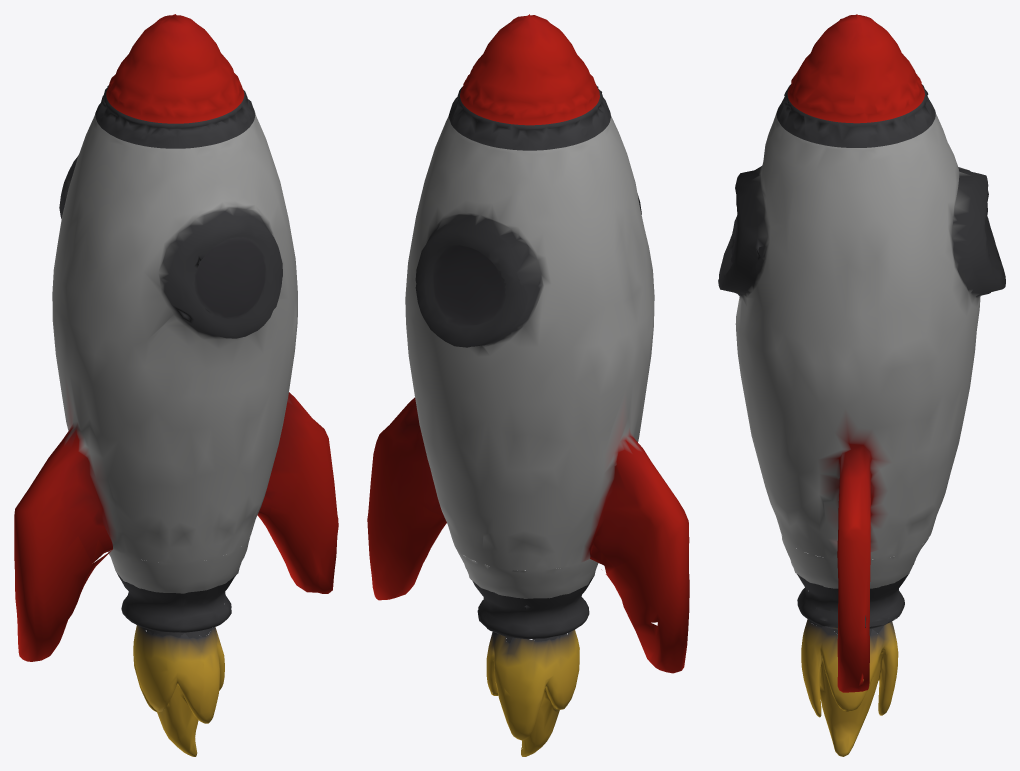
File: Cohete-AlasRojas.glb
The picture shows the model from 3 angles, left to right: view 1: azimuth 30°, elevation 25°; view 2: azimuth 150°, elevation 25°; view 3: azimuth 270°, elevation 25°; orthographic projection.
Parts seen in each view (by area): view 1: V2_Body, V2_Flame; view 2: V2_Body, V2_Flame; view 3: V2_Body, V2_Flame.
Boxes of the visible parts, x1,y1,x2,y2 form: V2_Body: (14,14,338,661); V2_Flame: (133,625,224,756); V2_Body: (367,14,689,673); V2_Flame: (479,621,579,756); V2_Body: (718,14,1005,692); V2_Flame: (801,618,898,756).
Size of the model in its own units: 0.4486 by 1.01 by 0.3592.
